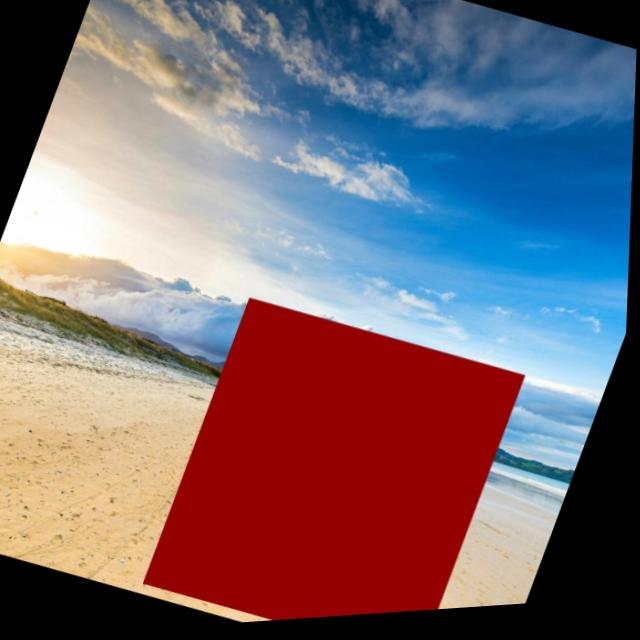RedSquare: (137, 278, 553, 632)
